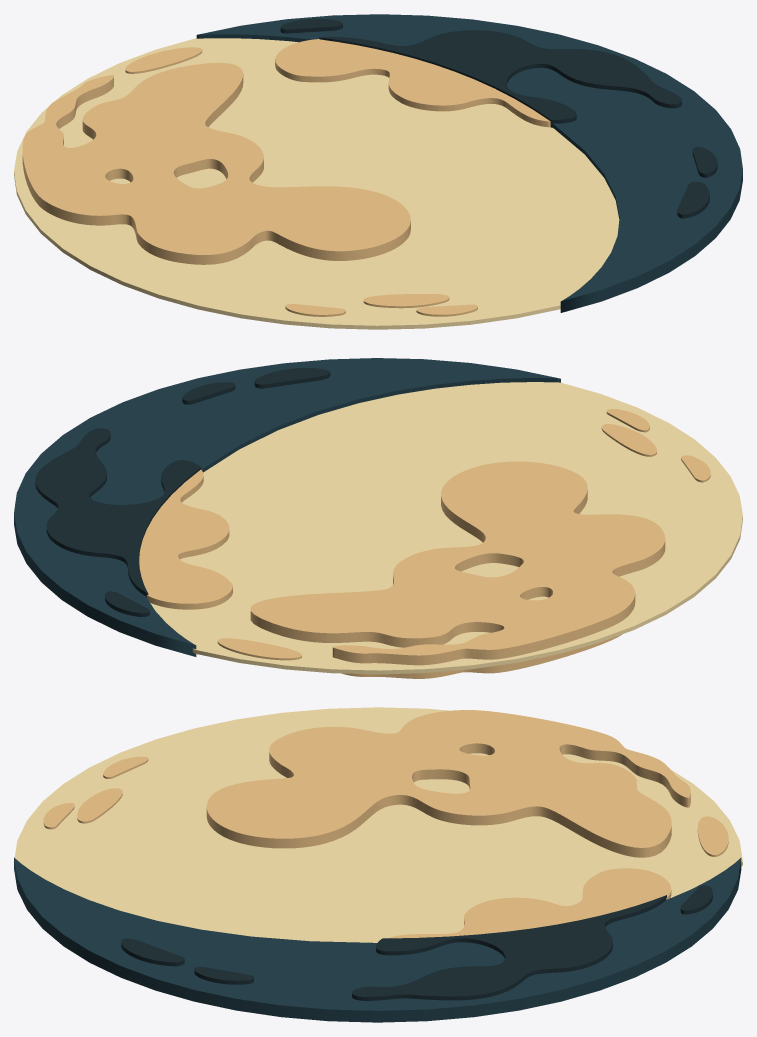
The model's file is emoji_u1f316.glb.
The picture shows the model from 3 angles, top to bottom: view 1: azimuth 30°, elevation 25°; view 2: azimuth 150°, elevation 25°; view 3: azimuth 270°, elevation 25°; orthographic projection.
Parts seen in each view (by area): view 1: emoji_u1f316; view 2: emoji_u1f316; view 3: emoji_u1f316.
Boxes of the visible parts, x1=… form: emoji_u1f316: x1=14, y1=14, x2=742, y2=329; emoji_u1f316: x1=14, y1=358, x2=742, y2=678; emoji_u1f316: x1=14, y1=707, x2=742, y2=1022.
Bounding box in the file's own units: 0.0338 × 0.0012 × 0.0339.
